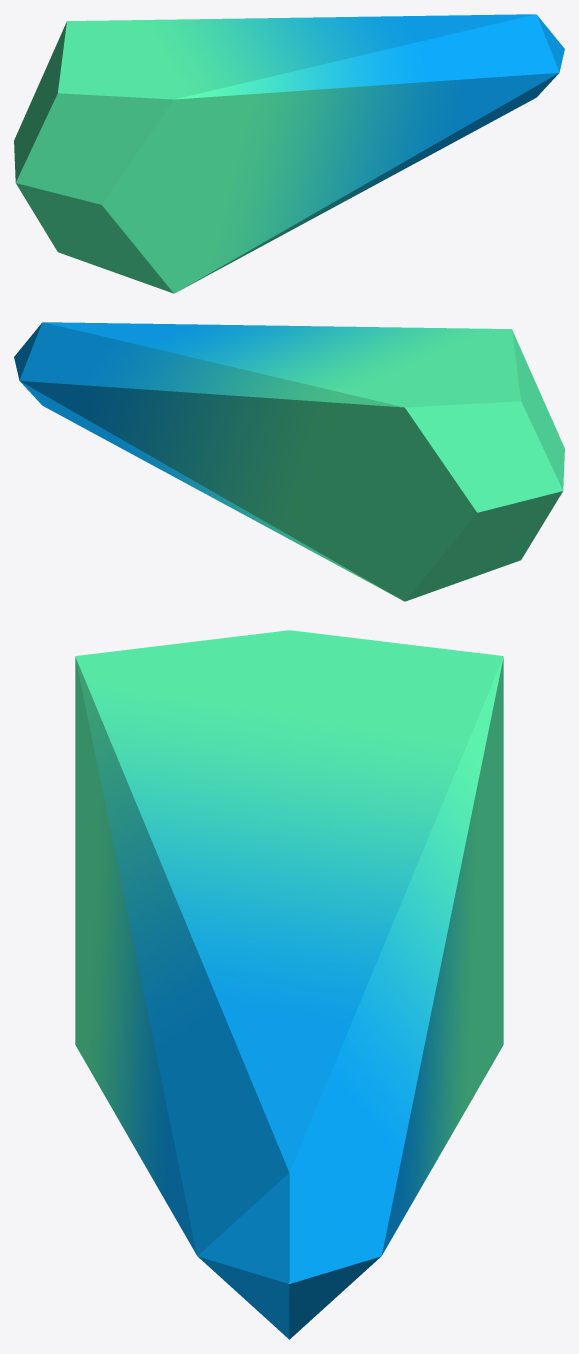
The model's file is iceWind.obj.
The picture shows the model from 3 angles, top to bottom: view 1: azimuth 30°, elevation 25°; view 2: azimuth 150°, elevation 25°; view 3: azimuth 270°, elevation 25°; orthographic projection. The views are drawn at different scales.
Visible parts, largest first — view 1: Circle; view 2: Circle; view 3: Circle.
Part boxes in pixels (box(x1,y1,x2,y2)): Circle: box(14, 14, 564, 293); Circle: box(14, 322, 564, 601); Circle: box(75, 630, 503, 1339).
Bounding box in the file's own units: 1.87 × 0.6328 × 0.6328.
Materials: 1 (1 with a texture image).
